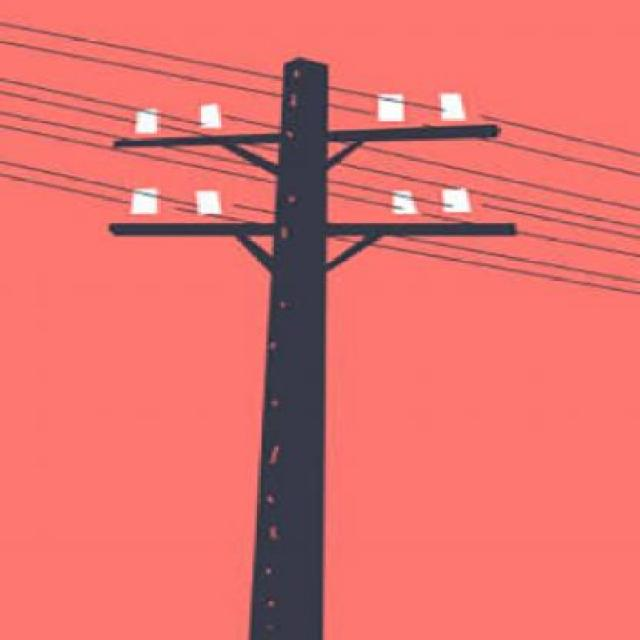pole: (100, 46, 540, 640)
